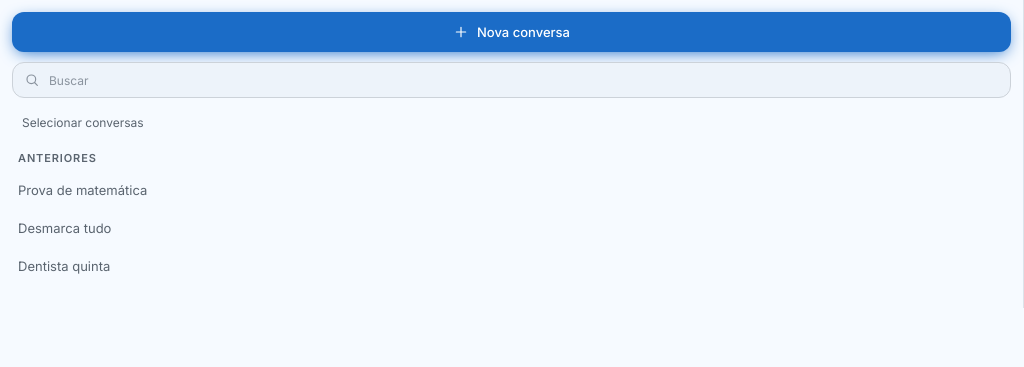
it: modo de seleção › clicar de novo em 'selecionar todas' desmarca tudo
Click the button "Selecionar conversas" at (83, 122), box [12,108,1011,138]
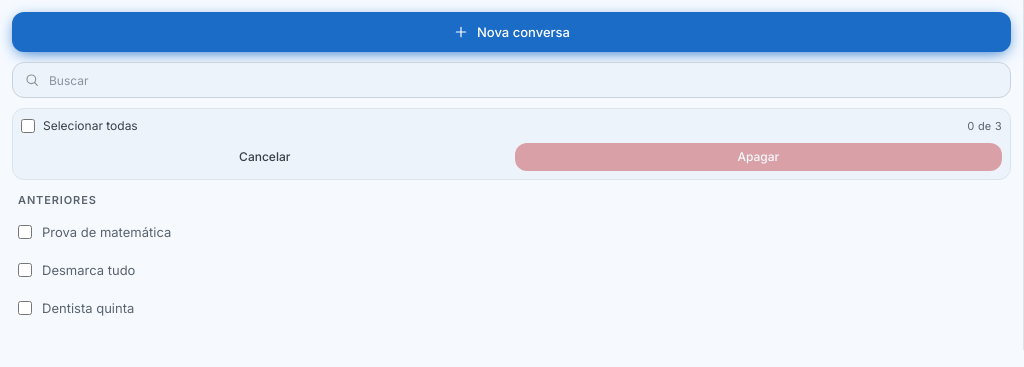
Click the checkbox labelled "Selecionar todas" at (28, 126), box [21,119,35,133]
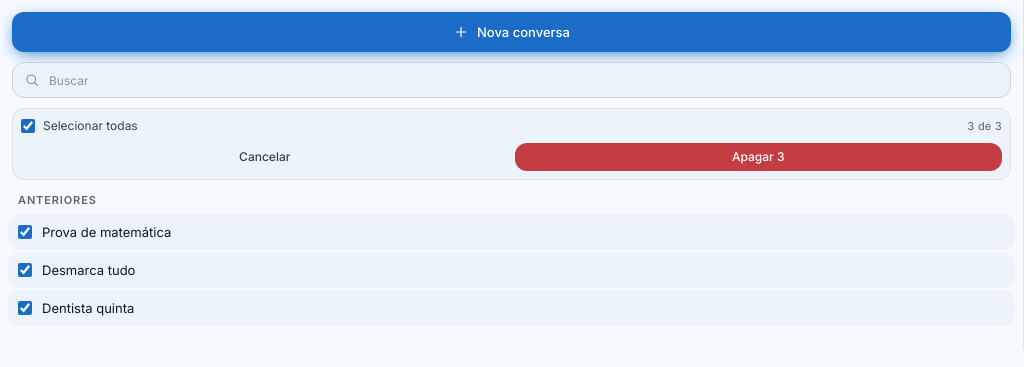
Click the checkbox labelled "Selecionar todas" at (28, 126), box [21,119,35,133]
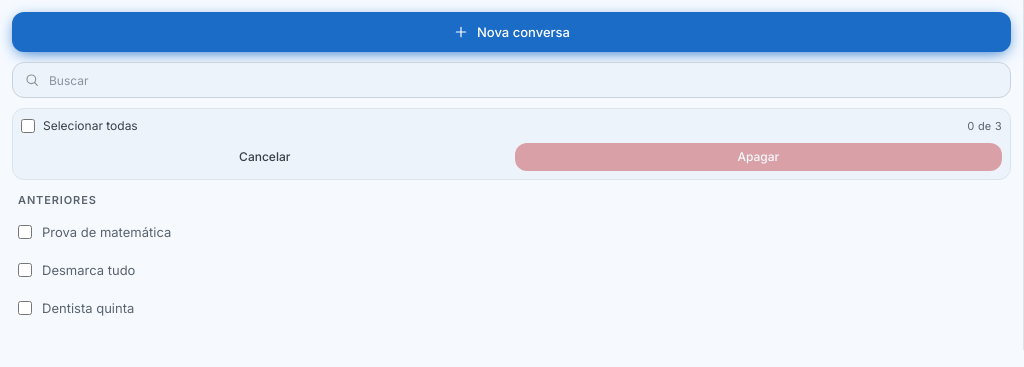
Result: the text "0 de 3" is shown at [967,118,1002,134]
